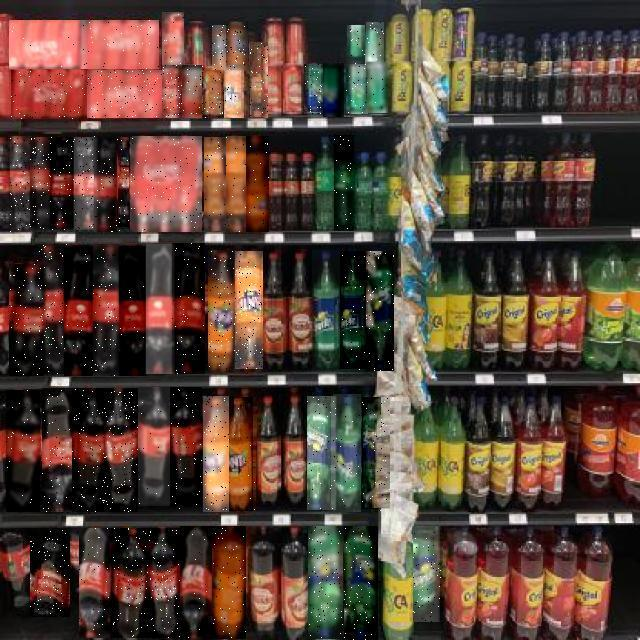Drinks: (132, 137, 202, 233), (172, 243, 205, 374), (72, 388, 106, 512), (6, 390, 40, 512), (105, 388, 138, 512), (10, 264, 46, 376), (37, 244, 68, 374), (80, 528, 116, 638), (114, 528, 150, 638), (308, 526, 343, 639), (170, 388, 202, 510), (64, 246, 94, 376), (345, 526, 379, 640), (212, 526, 246, 639), (138, 388, 170, 508), (10, 20, 86, 69), (83, 20, 159, 69), (11, 70, 87, 119), (42, 388, 72, 512), (93, 244, 121, 376), (180, 526, 212, 640), (119, 246, 147, 376), (146, 244, 174, 374), (87, 70, 162, 118), (30, 528, 70, 617), (148, 528, 180, 638), (312, 251, 340, 373), (209, 251, 237, 373), (340, 252, 368, 372), (366, 251, 394, 371), (235, 252, 263, 372), (333, 394, 361, 512), (308, 396, 336, 510), (362, 398, 390, 512), (203, 396, 229, 512), (230, 397, 256, 511), (414, 526, 442, 622), (30, 138, 56, 232), (50, 138, 76, 232), (94, 136, 118, 232), (246, 136, 269, 232), (74, 138, 97, 232), (10, 136, 32, 232), (205, 137, 227, 231), (226, 136, 246, 232), (335, 135, 355, 231), (118, 138, 138, 232), (250, 42, 268, 118), (162, 12, 184, 66), (324, 63, 346, 117), (202, 66, 224, 119), (368, 62, 390, 113), (347, 64, 369, 114), (163, 65, 183, 118), (183, 65, 203, 118), (224, 65, 244, 118), (226, 22, 248, 70), (304, 64, 324, 114), (367, 23, 385, 69), (347, 25, 365, 64), (212, 25, 226, 70)
